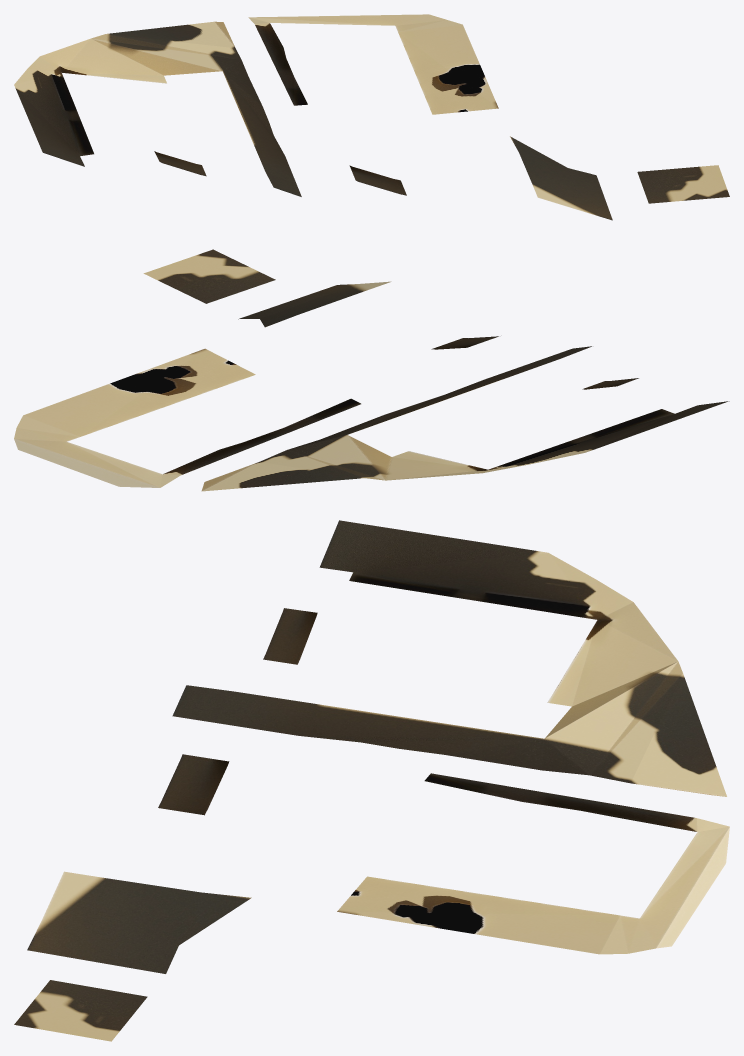
The model's file is Ground_Internal.fbx.
3 views of the same model, one above another, from view 1: azimuth 30°, elevation 25°; view 2: azimuth 150°, elevation 25°; view 3: azimuth 270°, elevation 25° (orthographic). The views are drawn at different scales.
Visible parts, largest first — view 1: Ground_Internal; view 2: Ground_Internal; view 3: Ground_Internal.
Boxes of the visible parts, left/top/right/bottom form: Ground_Internal: left=14, top=14, right=729, bottom=220; Ground_Internal: left=14, top=249, right=729, bottom=491; Ground_Internal: left=14, top=520, right=729, bottom=1041.
Size of the model in its own units: 82.72 by 12.74 by 63.87.
1 material, 1 textured.
